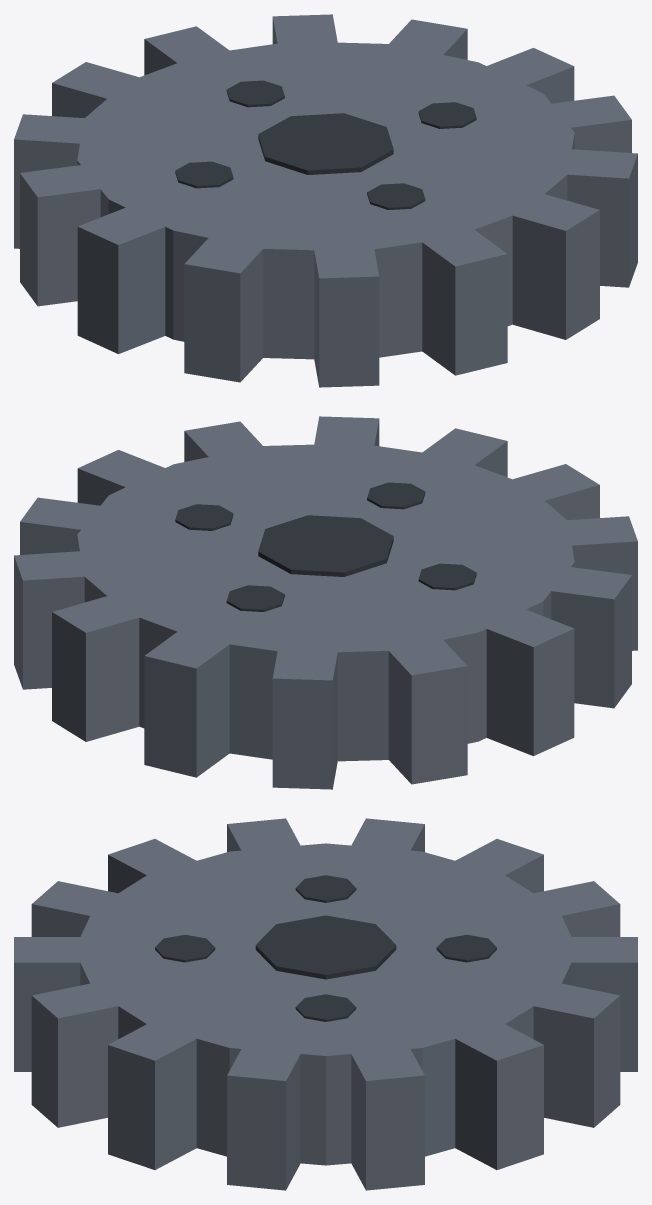
Rendered from prop_lift_gear.glb.
The picture shows the model from 3 angles, top to bottom: view 1: azimuth 30°, elevation 25°; view 2: azimuth 150°, elevation 25°; view 3: azimuth 270°, elevation 25°; orthographic projection.
Visible parts, largest first — view 1: prop_lift_gear; view 2: prop_lift_gear; view 3: prop_lift_gear.
Part boxes in pixels (bbox=[...]): prop_lift_gear: bbox=[14, 14, 637, 387]; prop_lift_gear: bbox=[14, 416, 637, 789]; prop_lift_gear: bbox=[14, 818, 637, 1190].
Size of the model in its own units: 0.6178 by 0.13 by 0.62.
Materials: 1 (1 with a texture image).
